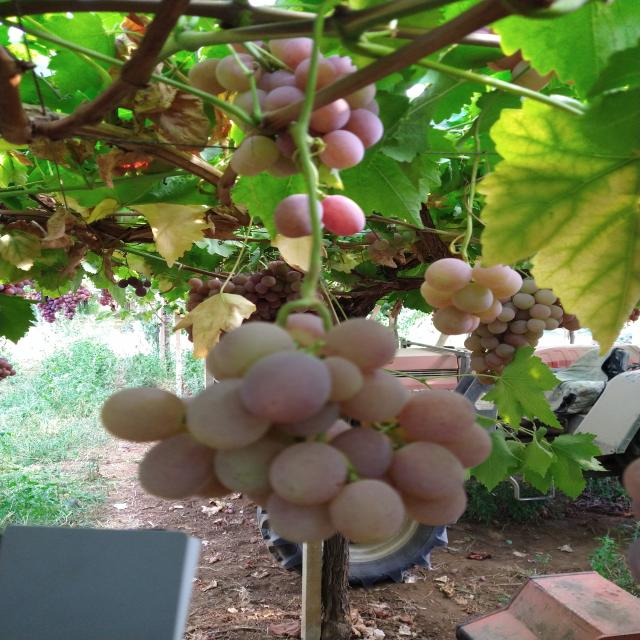grapes: (240, 351, 331, 424), (186, 377, 271, 450), (206, 322, 294, 383), (215, 432, 298, 495), (140, 433, 214, 500), (272, 442, 348, 506), (101, 387, 185, 442), (390, 389, 476, 442), (331, 481, 403, 544), (386, 441, 464, 499), (315, 320, 397, 374), (333, 369, 407, 423), (328, 428, 392, 480), (429, 423, 492, 470), (268, 500, 337, 542), (398, 486, 468, 526), (272, 402, 338, 438), (275, 193, 323, 239), (321, 194, 366, 237), (275, 314, 327, 349), (319, 130, 364, 170), (339, 108, 383, 148), (216, 53, 261, 91), (425, 258, 472, 292), (309, 98, 350, 134), (511, 59, 554, 93), (189, 58, 227, 95), (295, 57, 335, 92), (239, 136, 280, 168), (451, 283, 493, 313), (433, 306, 473, 335), (472, 258, 510, 288), (232, 89, 269, 117), (285, 37, 318, 68), (489, 270, 524, 299), (265, 86, 304, 110), (230, 153, 266, 177), (346, 81, 376, 108), (493, 47, 522, 70), (277, 131, 300, 160), (473, 297, 502, 319), (327, 54, 357, 75), (246, 488, 279, 506), (270, 69, 297, 89), (270, 38, 292, 62), (426, 290, 453, 308), (282, 160, 306, 176), (533, 290, 557, 306), (513, 293, 535, 310), (554, 70, 576, 86), (529, 304, 551, 319), (421, 281, 438, 300), (518, 280, 540, 294), (487, 320, 508, 334), (562, 317, 583, 331), (267, 167, 291, 179), (464, 336, 483, 351), (259, 71, 274, 89), (497, 307, 515, 322), (466, 315, 480, 334), (496, 344, 515, 358), (503, 333, 525, 345), (470, 358, 488, 372), (486, 353, 504, 367), (481, 336, 499, 350), (527, 319, 546, 332), (476, 373, 496, 385), (511, 320, 528, 334), (477, 325, 496, 337), (546, 305, 563, 318), (232, 274, 250, 286), (367, 100, 379, 117), (524, 330, 544, 340), (264, 288, 278, 302), (373, 238, 389, 250), (386, 233, 402, 245), (543, 318, 559, 330), (231, 285, 247, 297), (273, 264, 289, 276), (487, 62, 506, 72), (365, 232, 381, 243), (268, 281, 284, 292), (220, 282, 235, 293), (261, 276, 276, 287), (382, 246, 398, 256), (368, 244, 382, 255), (291, 281, 305, 292), (197, 285, 209, 297), (244, 281, 256, 293), (244, 292, 257, 303), (188, 278, 202, 288), (208, 279, 222, 289), (286, 273, 300, 283), (470, 352, 487, 360), (267, 261, 282, 270), (252, 273, 264, 284), (190, 293, 203, 303), (525, 339, 539, 348), (267, 299, 281, 308), (202, 278, 213, 289), (256, 283, 268, 293), (258, 302, 270, 312), (132, 279, 143, 289), (284, 284, 295, 294), (135, 288, 147, 297), (128, 276, 138, 286), (262, 269, 273, 278), (294, 306, 308, 313), (481, 317, 497, 323), (208, 289, 220, 297), (118, 279, 128, 288), (249, 315, 261, 322), (472, 29, 488, 34), (553, 316, 563, 324), (286, 294, 294, 304), (563, 315, 574, 322), (4, 288, 15, 295), (0, 360, 9, 368), (188, 288, 197, 296), (191, 302, 200, 310), (289, 271, 301, 277), (294, 292, 302, 301), (317, 292, 324, 302), (277, 291, 288, 297), (1, 370, 11, 376), (629, 315, 639, 321), (14, 282, 24, 288), (259, 311, 269, 317), (8, 369, 16, 376), (5, 364, 13, 371), (186, 304, 193, 312), (144, 281, 152, 287), (251, 309, 259, 315), (268, 308, 276, 314), (557, 322, 564, 328), (11, 286, 17, 293), (15, 288, 22, 294), (203, 296, 210, 302), (279, 255, 286, 261), (524, 277, 532, 282), (256, 293, 264, 298), (308, 306, 316, 311), (314, 292, 319, 300), (23, 280, 29, 286), (0, 358, 8, 362), (0, 368, 6, 373), (0, 374, 6, 379), (631, 310, 635, 316), (0, 284, 4, 290), (64, 295, 70, 299), (80, 294, 86, 298), (76, 294, 82, 298), (20, 289, 24, 294), (30, 285, 35, 289), (70, 300, 75, 304), (73, 296, 78, 300), (84, 291, 89, 295), (49, 301, 54, 305), (80, 289, 84, 294), (188, 300, 192, 305), (54, 300, 60, 303), (54, 308, 60, 311), (58, 298, 64, 301), (36, 304, 42, 307), (42, 309, 48, 312), (32, 283, 36, 287), (50, 312, 54, 316), (63, 303, 67, 307), (68, 291, 72, 295), (76, 289, 80, 293), (84, 288, 88, 292), (52, 304, 56, 308), (67, 298, 72, 301), (0, 368, 2, 374), (46, 319, 50, 322), (46, 317, 52, 319), (72, 304, 76, 307), (56, 305, 60, 308), (64, 313, 68, 316), (99, 301, 103, 304), (102, 298, 106, 301), (107, 297, 111, 300), (67, 316, 71, 319), (50, 318, 54, 321), (40, 314, 44, 317), (46, 306, 50, 309), (69, 295, 73, 298), (248, 276, 251, 280), (44, 312, 49, 314), (47, 310, 52, 312), (81, 286, 86, 288), (51, 318, 56, 320), (42, 304, 47, 306), (50, 316, 55, 318), (74, 305, 77, 308), (88, 291, 91, 294), (0, 377, 2, 381), (46, 314, 50, 316), (59, 307, 63, 309), (103, 302, 107, 304), (106, 293, 110, 295), (86, 294, 90, 296), (48, 305, 52, 307), (70, 307, 74, 309), (44, 318, 47, 320), (50, 321, 53, 323), (51, 307, 54, 309), (68, 305, 71, 307), (64, 307, 66, 310), (102, 304, 105, 306), (75, 302, 78, 304), (39, 307, 42, 309), (186, 303, 188, 306), (44, 316, 46, 318), (45, 320, 47, 322), (53, 320, 55, 322), (48, 321, 50, 323)
